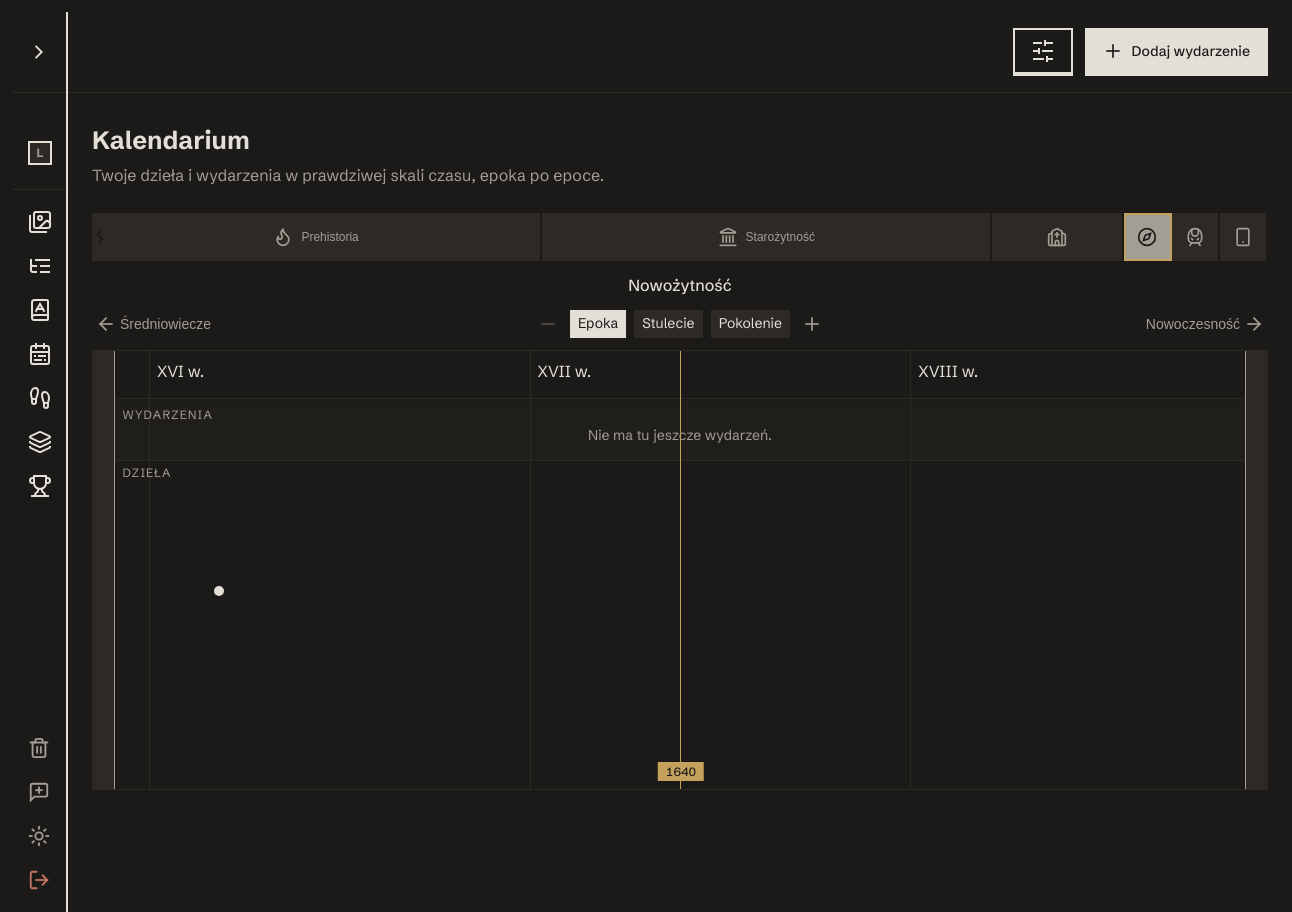
timeline page › opens an era from the strip
The width and height of the screenshot is (1292, 912).
Click the button "Prehistoria" at coordinates (317, 237), box [92,213,542,261]
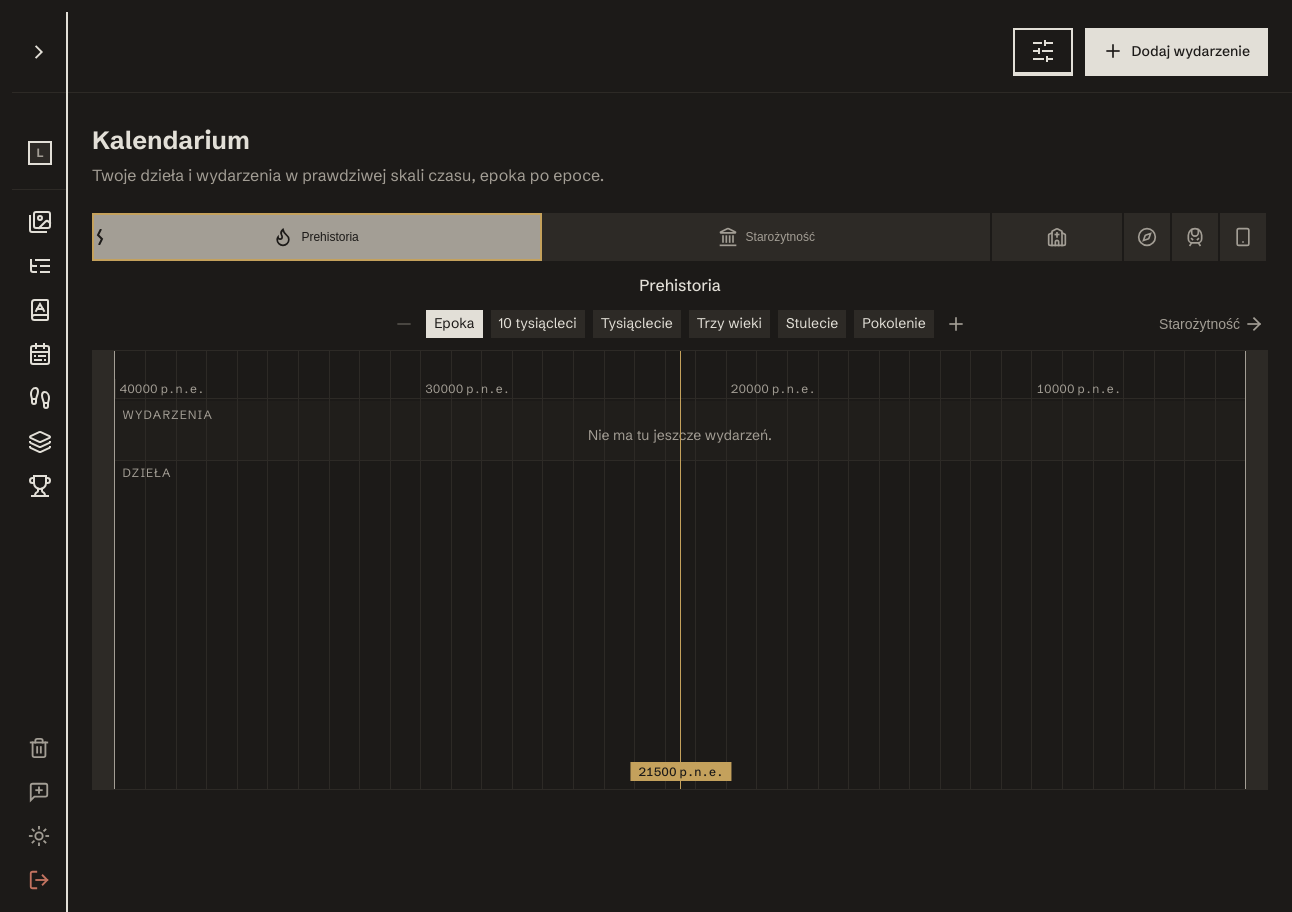
Expected: the 1st text "Prehistoria" is shown, [301,230,359,244]
Now the button "10 tysiącleci" is shown, box [490,310,585,338]
Click the button named "Współczesność" at coordinates (1244, 237), box [1220,213,1268,261]
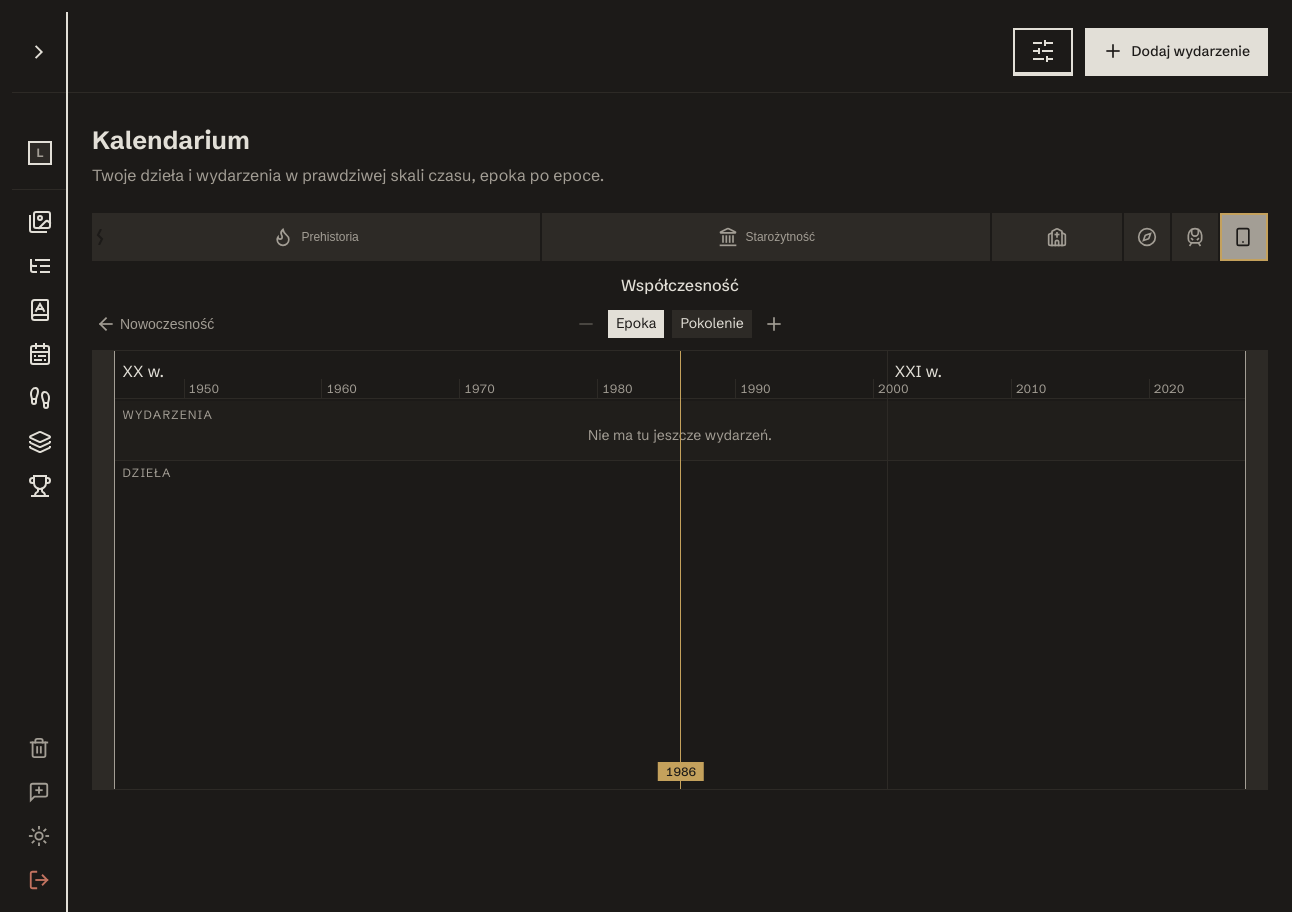
Now the text "Współczesność" is shown, box [621,273,739,298]
